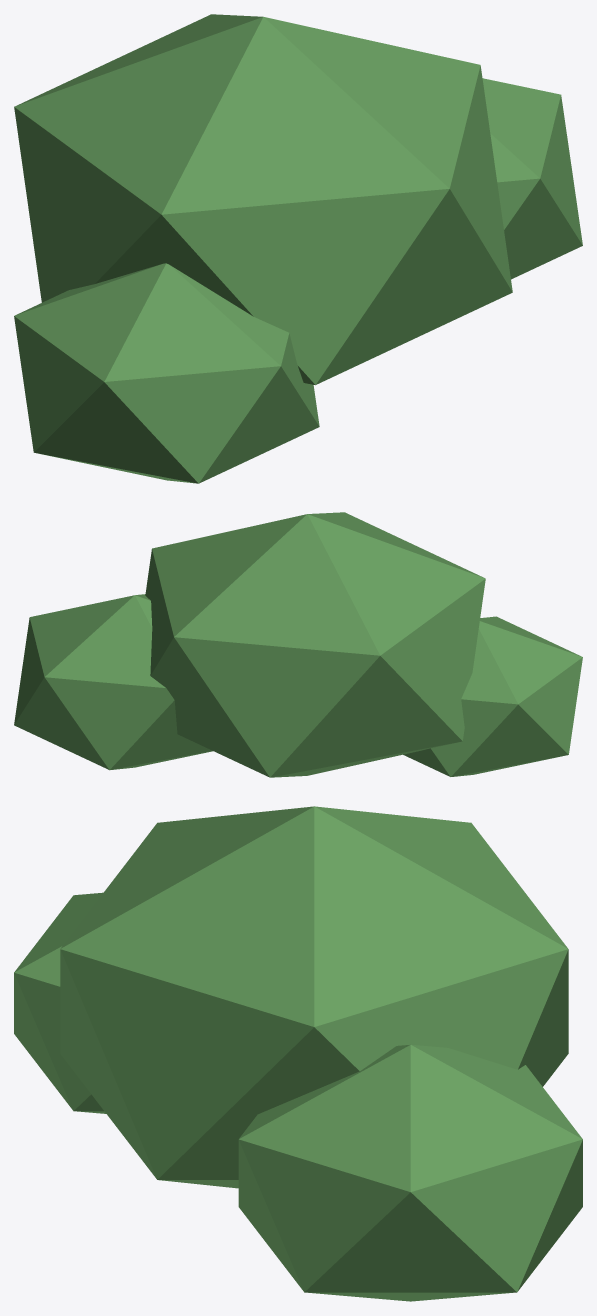
The model's file is bush.glb.
The picture shows the model from 3 angles, top to bottom: view 1: azimuth 30°, elevation 25°; view 2: azimuth 150°, elevation 25°; view 3: azimuth 270°, elevation 25°; orthographic projection. The views are drawn at different scales.
Visible parts, largest first — view 1: bush; view 2: bush; view 3: bush.
Boxes of the visible parts, x1,y1,x2,y2 form: bush: (14, 14, 582, 483); bush: (14, 512, 582, 777); bush: (14, 806, 582, 1301).
Bounding box in the file's own units: 1.64 × 0.9124 × 1.18.
